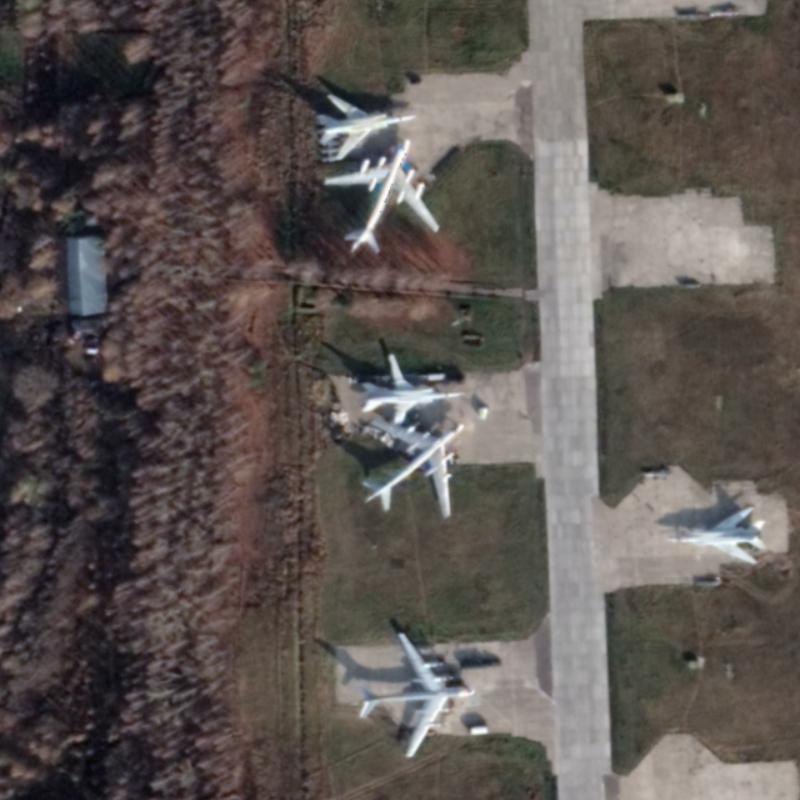A12: (359, 350, 467, 426), (317, 91, 421, 163), (665, 503, 768, 567)
A17: (356, 630, 477, 760), (321, 137, 442, 256), (359, 415, 466, 521)
